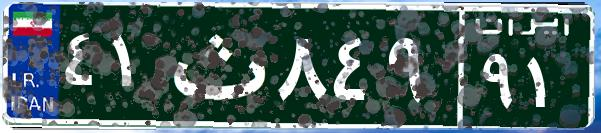1: (110, 28, 158, 105), (525, 38, 570, 115)
4: (330, 28, 385, 110), (57, 26, 110, 107)
8: (273, 28, 330, 110)
9: (385, 28, 445, 110), (475, 38, 525, 113)
ث: (158, 15, 273, 115)
